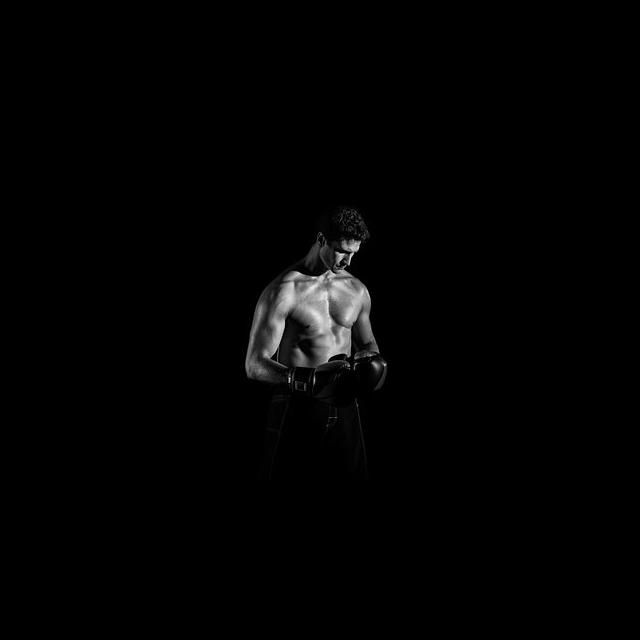male: (305, 201, 371, 278)
